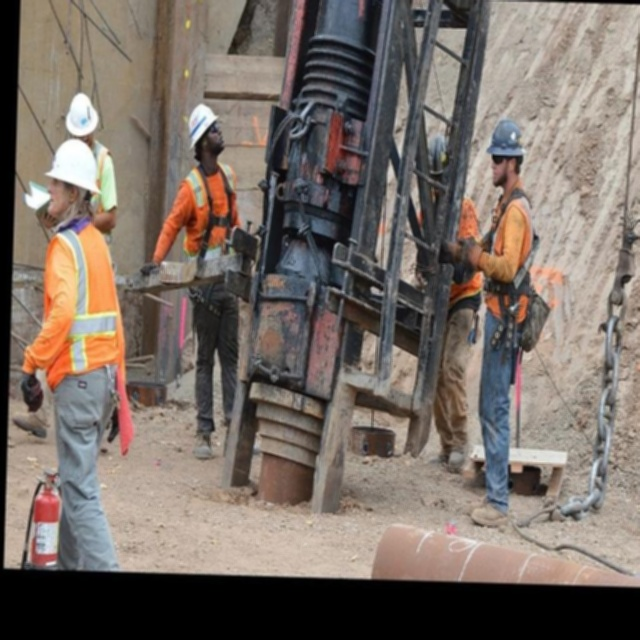Con_Casco: (43, 140, 102, 215), (485, 118, 526, 187), (189, 103, 227, 158)
Con_Chaleco: (39, 220, 123, 392), (180, 161, 240, 255)
